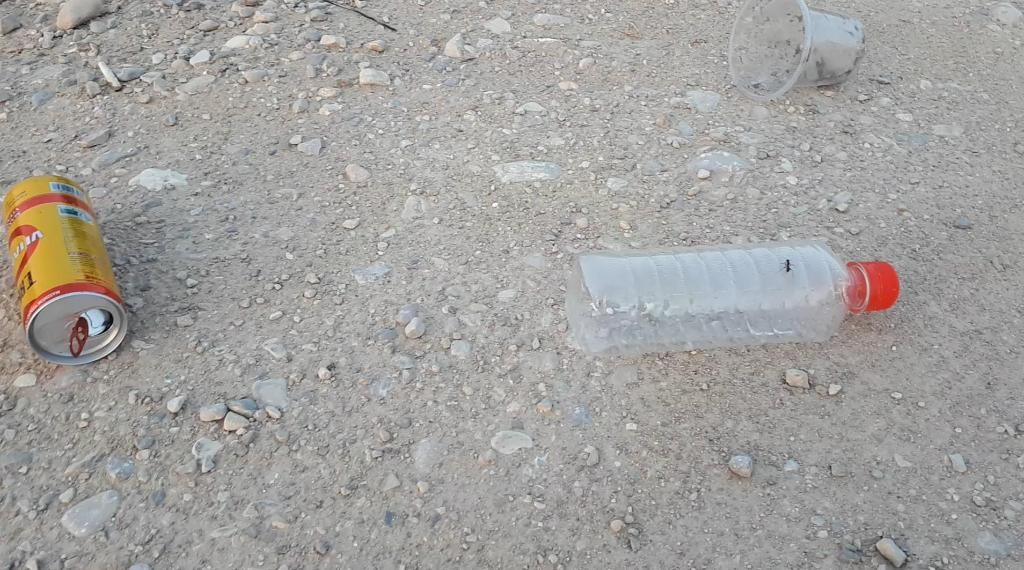garbage: (547, 227, 913, 351), (565, 239, 900, 355), (0, 173, 143, 371), (2, 175, 128, 365)
